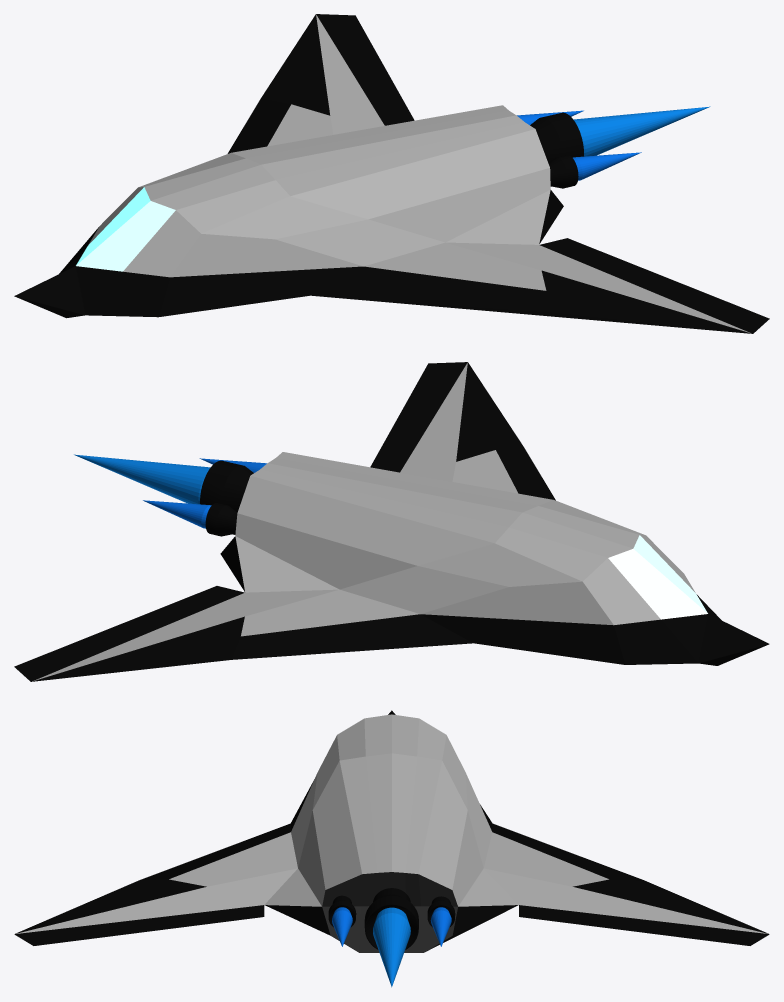
File: low_poly_space_ship_2.glb
3 views of the same model, one above another, from view 1: azimuth 30°, elevation 25°; view 2: azimuth 150°, elevation 25°; view 3: azimuth 270°, elevation 25° (orthographic). The views are drawn at different scales.
Parts seen in each view (by area): view 1: small spaceship_0; view 2: small spaceship_0; view 3: small spaceship_0.
Part boxes in pixels (x1=…): small spaceship_0: x1=14, y1=14, x2=769, y2=333; small spaceship_0: x1=14, y1=362, x2=769, y2=681; small spaceship_0: x1=14, y1=710, x2=769, y2=987.
Bounding box in the file's own units: 36.56 × 5.42 × 39.72.
